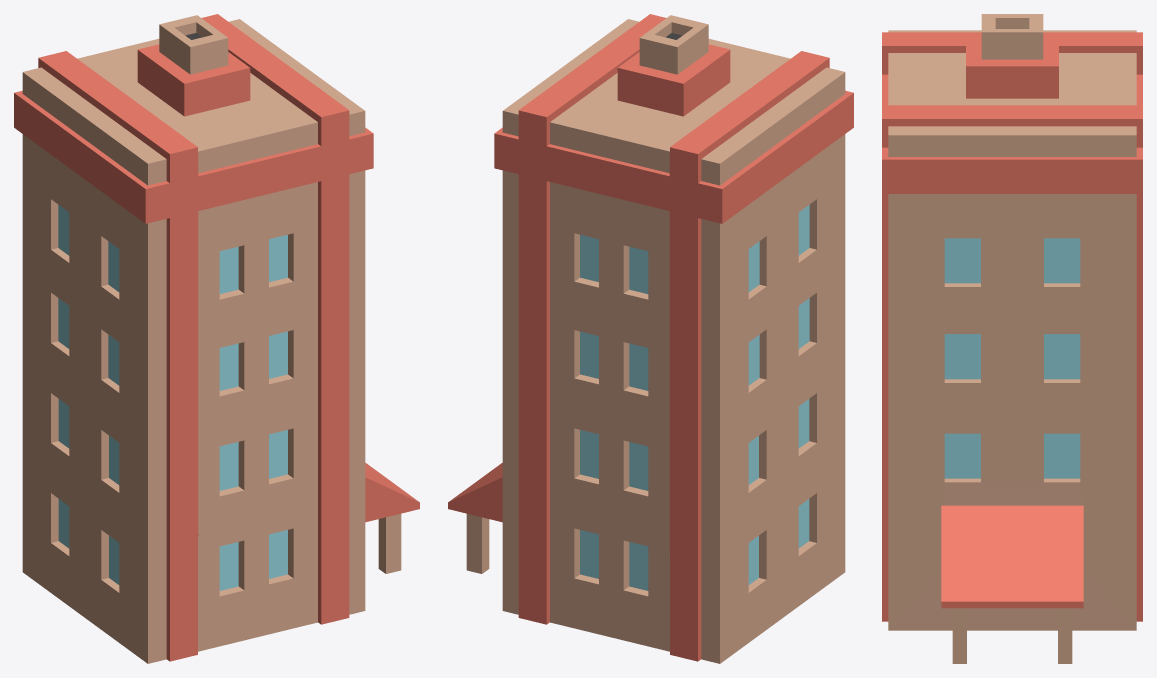
The model's file is BigHouse 4.1.fbx.
3 views of the same model, side by side, from view 1: azimuth 30°, elevation 25°; view 2: azimuth 150°, elevation 25°; view 3: azimuth 270°, elevation 25° (orthographic).
Parts seen in each view (by area): view 1: BigHouse_Type4_1; view 2: BigHouse_Type4_1; view 3: BigHouse_Type4_1.
Boxes of the visible parts, box(x1,y1,x2,y2) form: BigHouse_Type4_1: box(14, 14, 419, 663); BigHouse_Type4_1: box(448, 14, 853, 663); BigHouse_Type4_1: box(882, 14, 1142, 663).
Size of the model in its own units: 924 by 1627 by 693.
